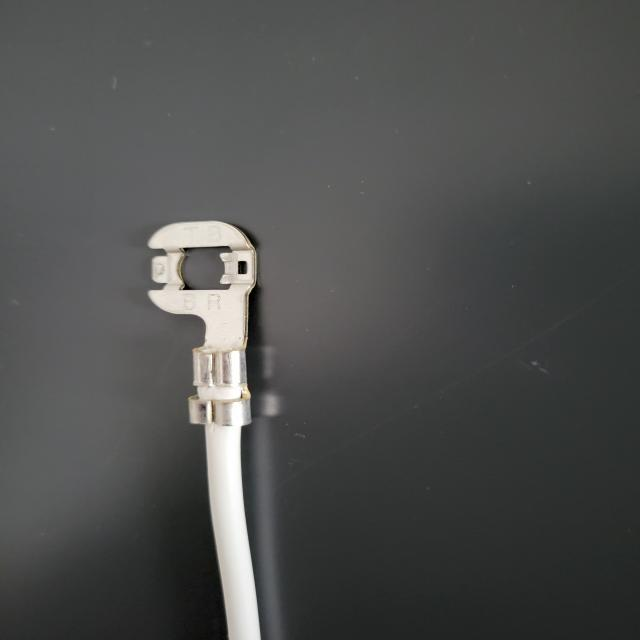defect: (150, 323, 312, 444)
